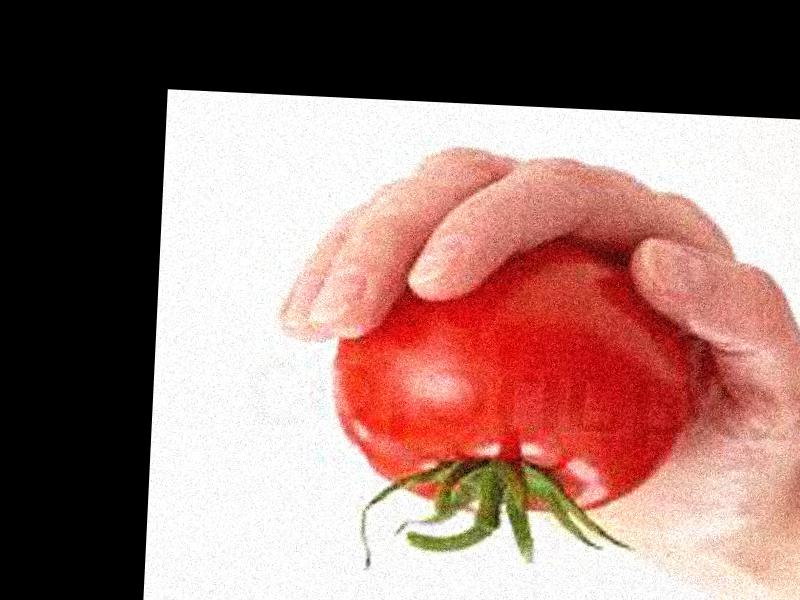Tomato: (327, 231, 691, 523)
